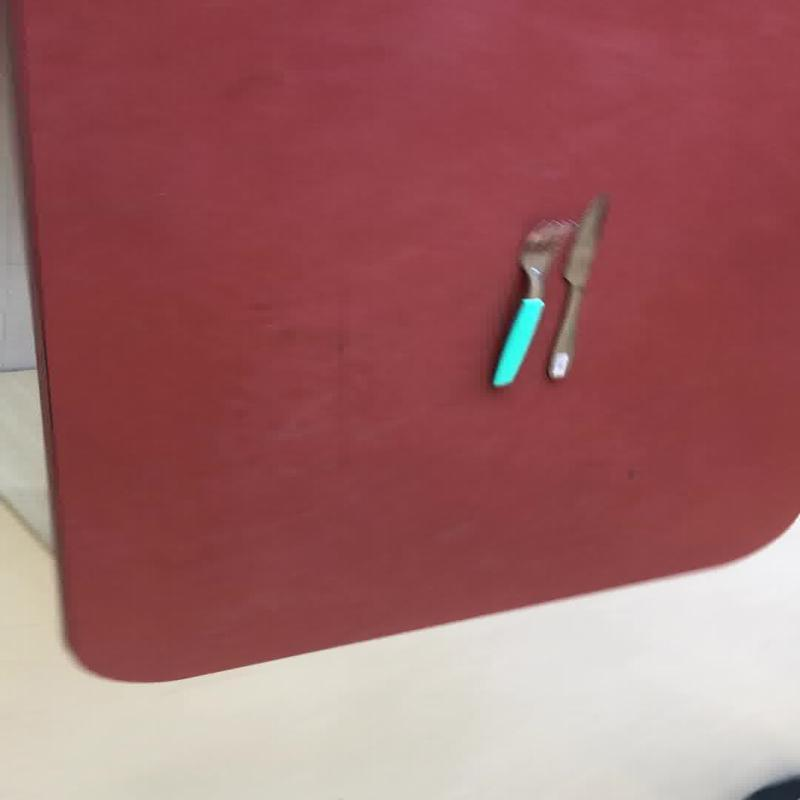fork: (488, 217, 574, 387), (546, 194, 607, 380)
knife: (488, 217, 574, 387), (545, 194, 608, 380)
